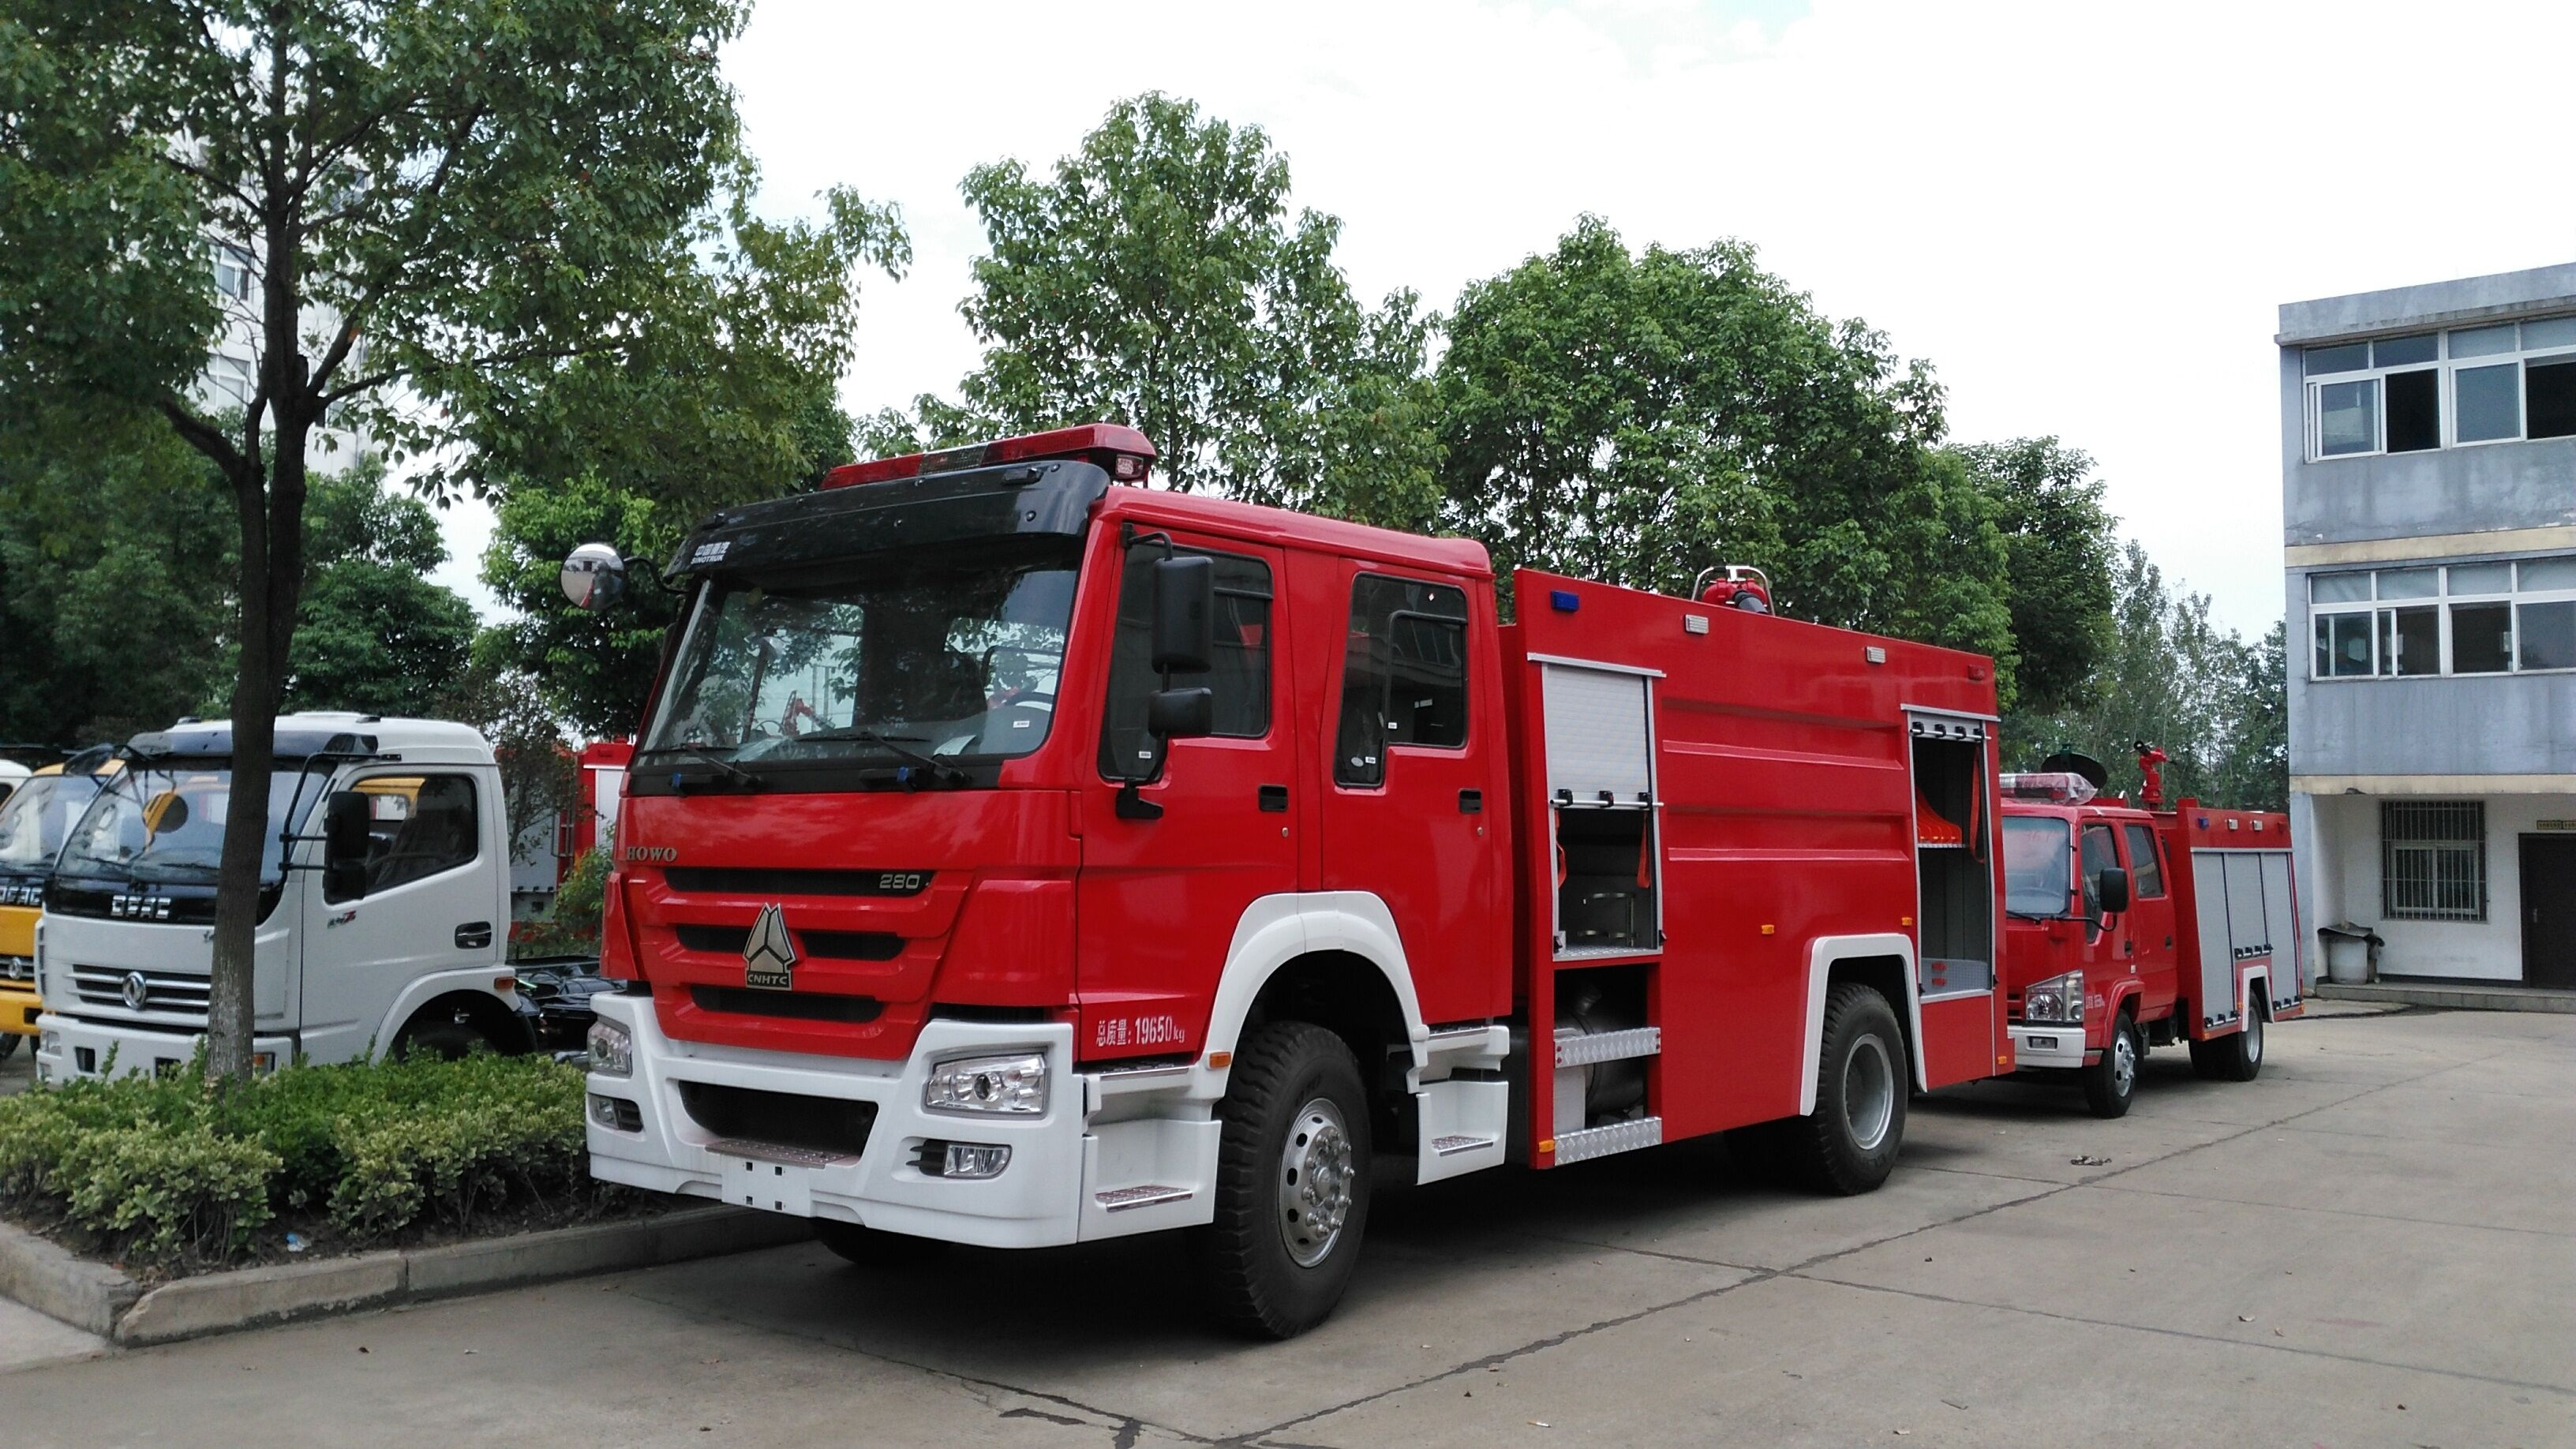fire engine: (557, 418, 2029, 1281)
